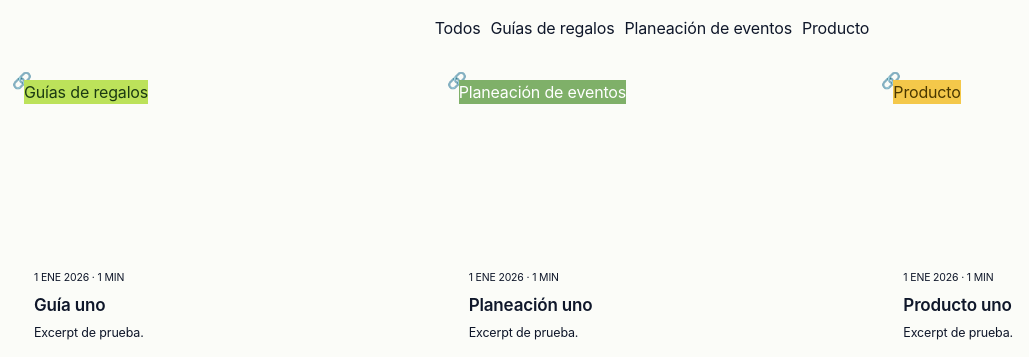
Scenario: BlogCategoryFilter › filters to a single category without navigation
Click the button "Guías de regalos". click: (552, 28)
box: [490,16,614,40]
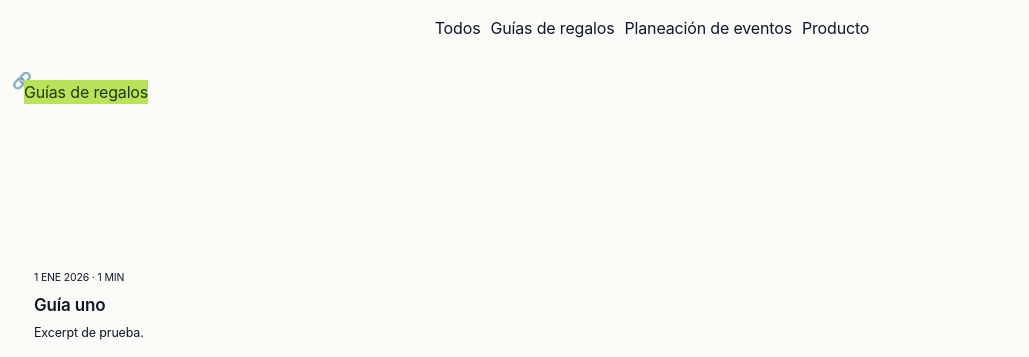
Check: the text "Guía uno" is shown, box [34,295,106,315]
Check: the link "Planeación uno" is gone
Check: the link "Producto uno" is gone
